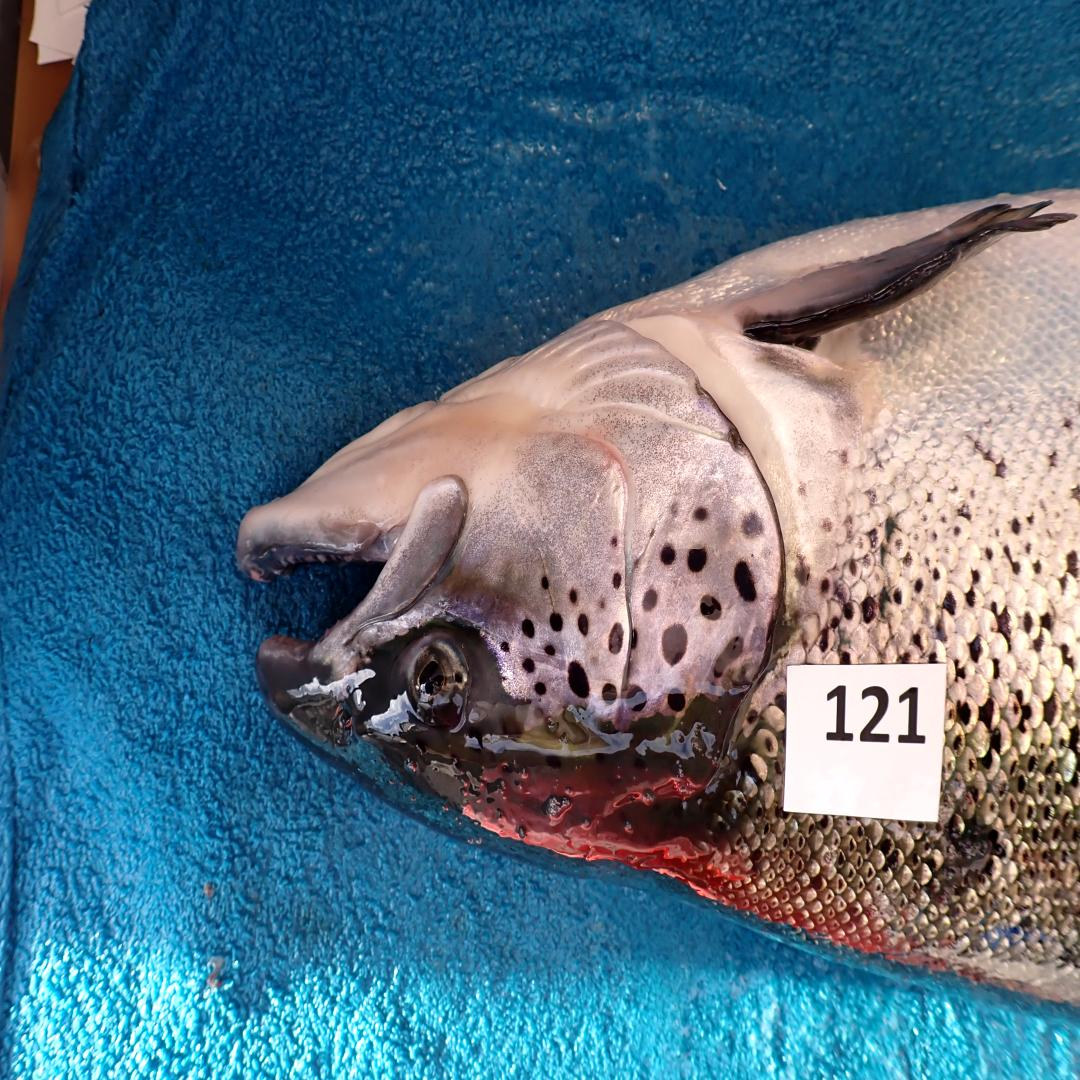roi: (463, 315, 787, 727)
